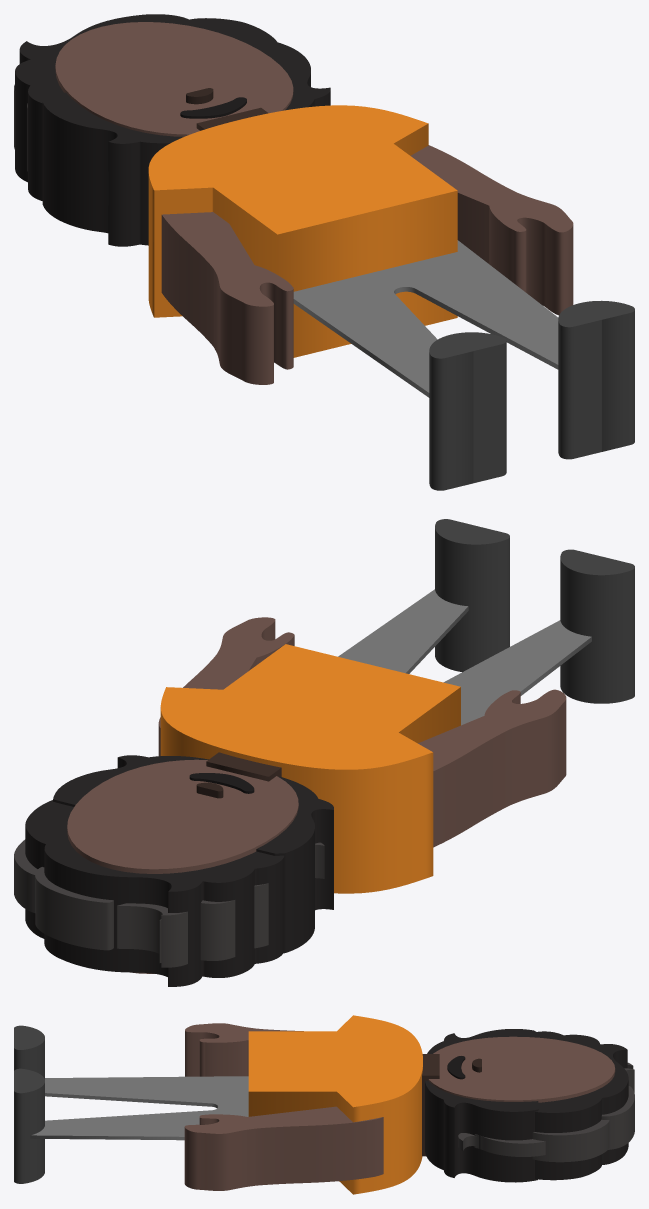
Rendered from emoji_u1f9cd_1f3ff.glb.
3 views of the same model, one above another, from view 1: azimuth 30°, elevation 25°; view 2: azimuth 150°, elevation 25°; view 3: azimuth 270°, elevation 25° (orthographic). The views are drawn at different scales.
Parts seen in each view (by area): view 1: emoji_u1f9cd_1f3ff; view 2: emoji_u1f9cd_1f3ff; view 3: emoji_u1f9cd_1f3ff.
Part boxes in pixels (left/top/right/bottom): emoji_u1f9cd_1f3ff: left=14, top=14, right=634, bottom=490; emoji_u1f9cd_1f3ff: left=14, top=519, right=634, bottom=986; emoji_u1f9cd_1f3ff: left=14, top=1015, right=634, bottom=1194.
Size of the model in its own units: 0.0143 by 0.0054 by 0.0335.
